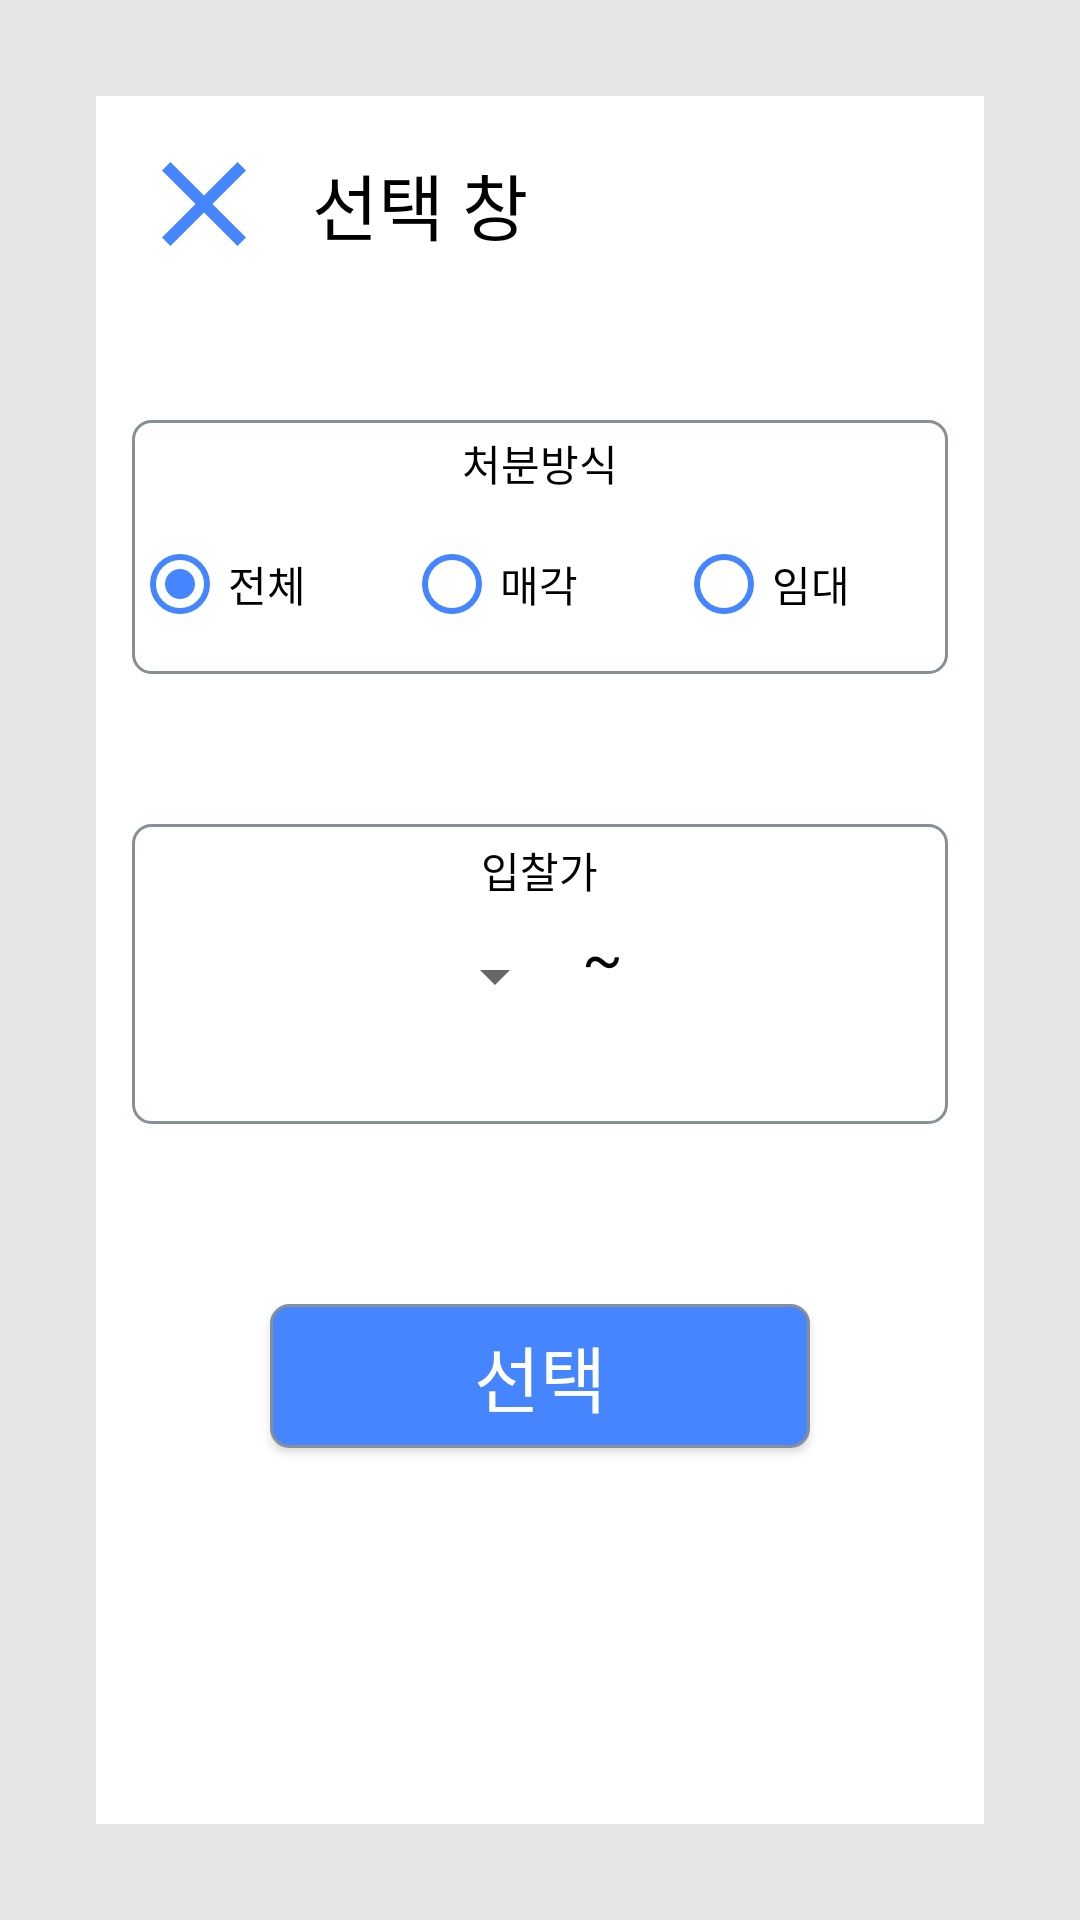

Screen size 1080x1920. Icon name, then its box in pixels as (x1, y1, x2, y2):
close: (162, 162, 246, 246)
